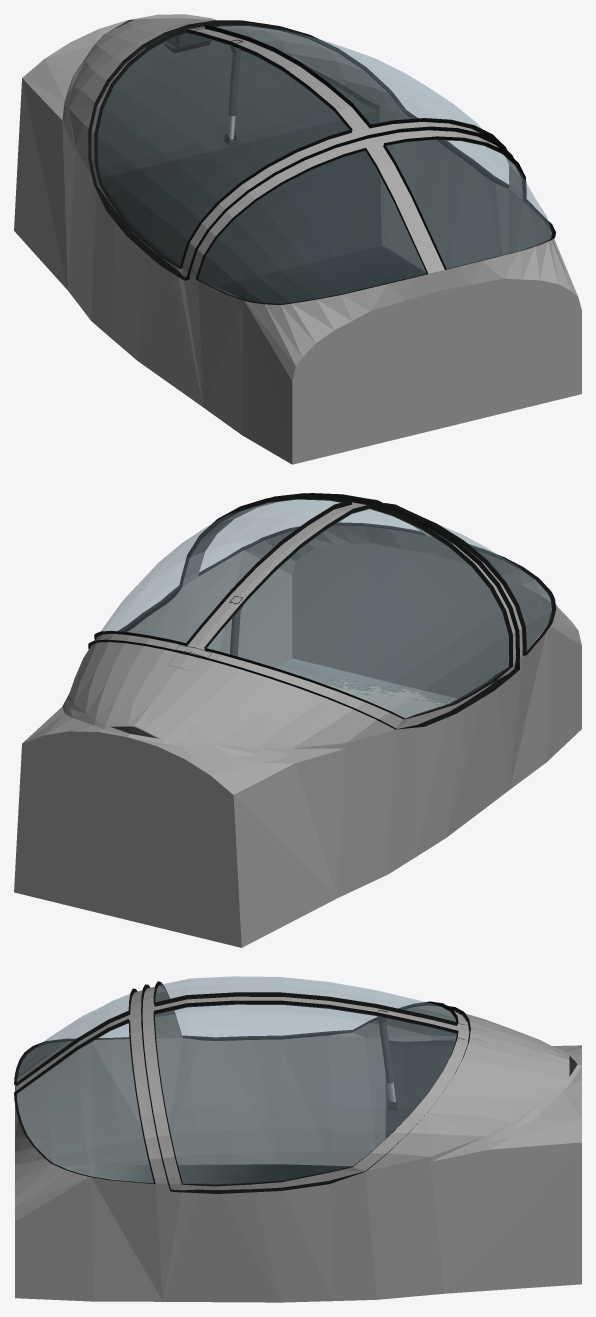
Rendered from interior.obj.
3 views of the same model, one above another, from view 1: azimuth 30°, elevation 25°; view 2: azimuth 150°, elevation 25°; view 3: azimuth 270°, elevation 25° (orthographic). The views are drawn at different scales.
Parts seen in each view (by area): view 1: interieur, cloison, HDRintverriere, HDRintvitres, inttourverriere, planchet, inttourvitres.001, intverriere, verrin2; view 2: interieur, HDRintverriere, inttourverriere, planchet, inttourvitres.001, intverriere, HDRintvitres; view 3: interieur, HDRintverriere, inttourverriere, HDRintvitres, intverriere, cloison, planchet, inttourvitres.001, intvitres, verrin2.
Part boxes in pixels (x1,y1,x2,y2): interieur: [14, 14, 581, 464]; cloison: [97, 40, 381, 286]; HDRintverriere: [98, 26, 481, 265]; HDRintvitres: [199, 140, 551, 303]; inttourverriere: [88, 20, 515, 280]; planchet: [214, 245, 426, 304]; inttourvitres.001: [88, 20, 555, 305]; intverriere: [282, 30, 480, 127]; verrin2: [228, 48, 240, 116]; interieur: [14, 501, 581, 947]; HDRintverriere: [101, 499, 508, 717]; inttourverriere: [88, 493, 519, 729]; planchet: [276, 658, 457, 718]; inttourvitres.001: [89, 493, 555, 728]; intverriere: [102, 511, 239, 630]; HDRintvitres: [442, 526, 551, 648]; interieur: [15, 990, 581, 1302]; HDRintverriere: [155, 976, 455, 1184]; inttourverriere: [141, 981, 470, 1193]; HDRintvitres: [17, 994, 152, 1181]; intverriere: [161, 977, 436, 1038]; cloison: [385, 1040, 455, 1138]; planchet: [61, 1164, 352, 1184]; inttourvitres.001: [14, 985, 469, 1193]; intvitres: [37, 994, 129, 1046]; verrin2: [378, 1019, 393, 1083].
Bounding box in the file's own units: 1.43 × 1.05 × 2.28.
Materials: 2 (2 with a texture image).
